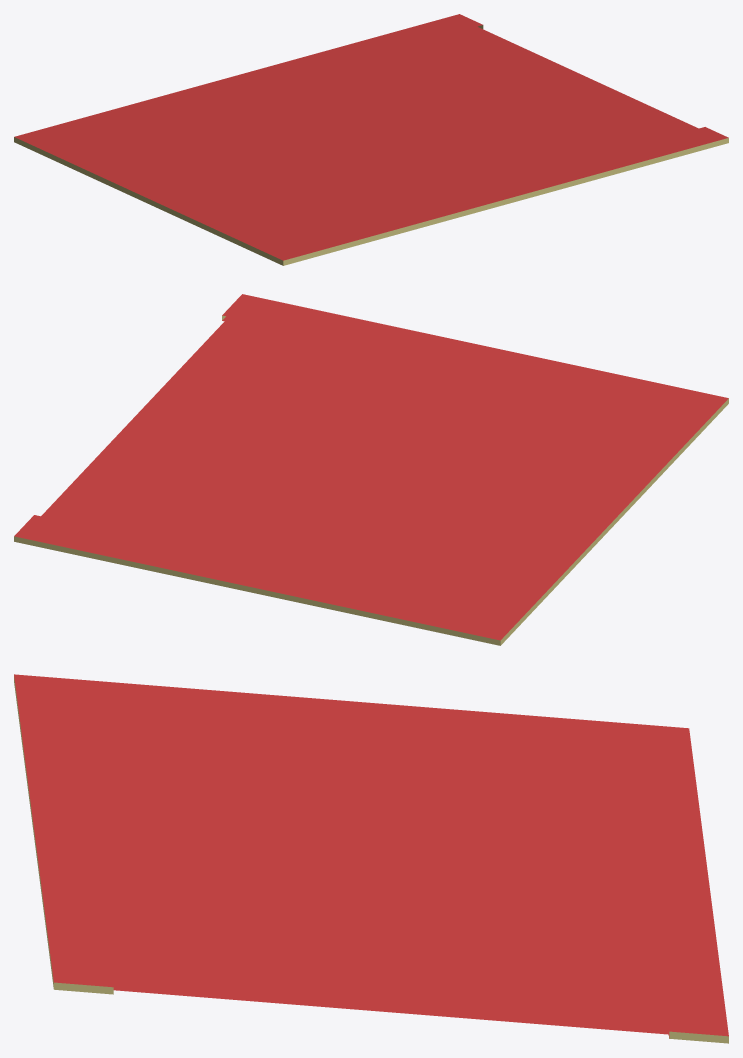
3 views of the same model, one above another, from view 1: azimuth 30°, elevation 25°; view 2: azimuth 150°, elevation 25°; view 3: azimuth 270°, elevation 25° (orthographic). The views are drawn at different scales.
Bounding box in the file's own units: 9.59 × 8.95 × 1.06.
